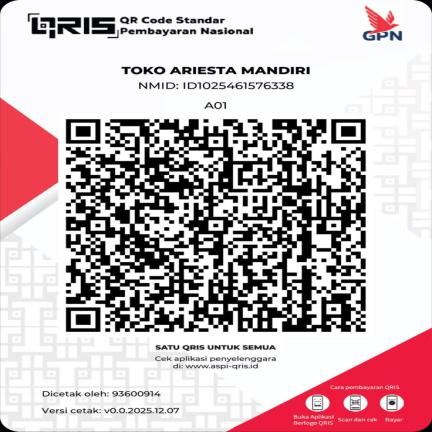Cara Pakai QRIS: (287, 383, 418, 428)
Cek Aplikasi Penyelenggara: (146, 354, 285, 371)
Dicetak Oleh: (36, 389, 170, 400)
Logo GPN: (344, 2, 414, 46)
Logo dan deskripsi QRIS: (22, 10, 258, 43)
Nama Merchant: (112, 62, 315, 77)
National Merchant ID: (113, 79, 316, 93)
QR Code: (56, 115, 375, 337)
Slogan: (146, 342, 284, 352)
Terminal ID: (197, 100, 233, 110)
Versi Cetak: (37, 403, 189, 417)
